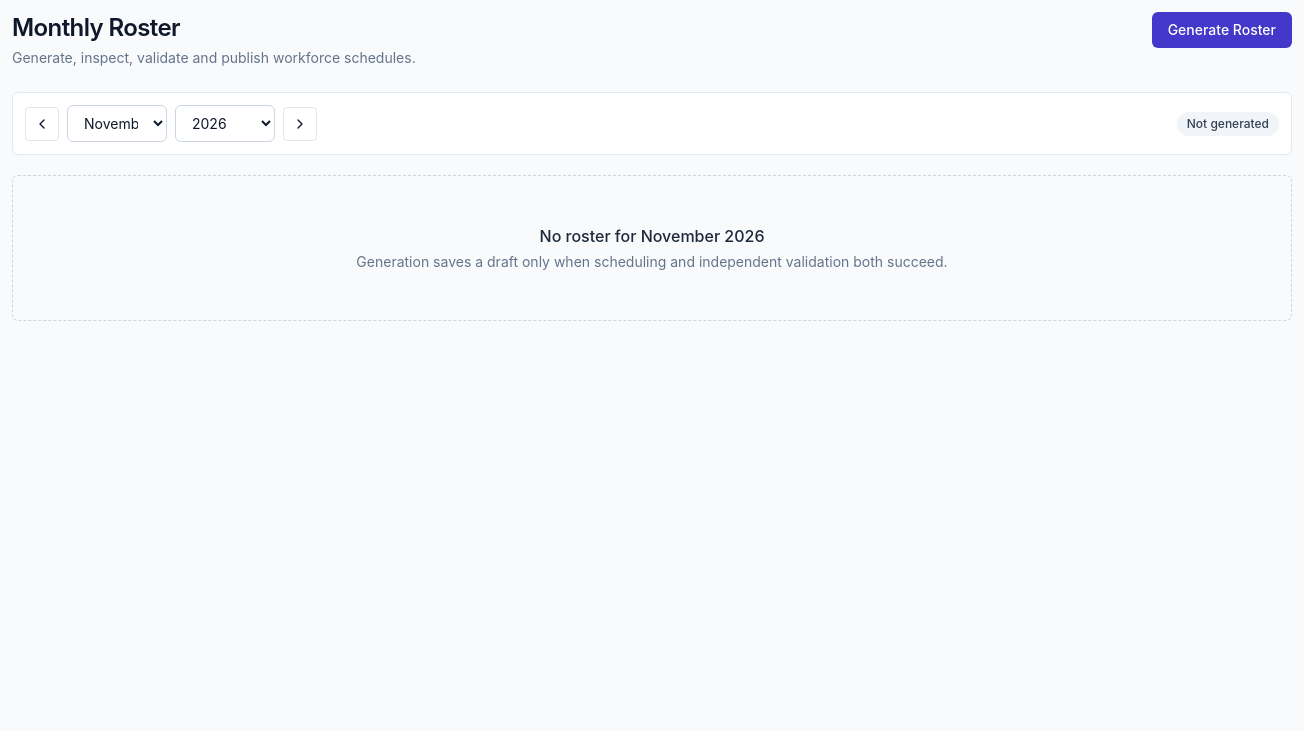
Task 9 monthly roster › filters coverage and opens the related brand view
Select "December" in the dropdown named "Roster month" at (117, 124), box [67,105,167,142]
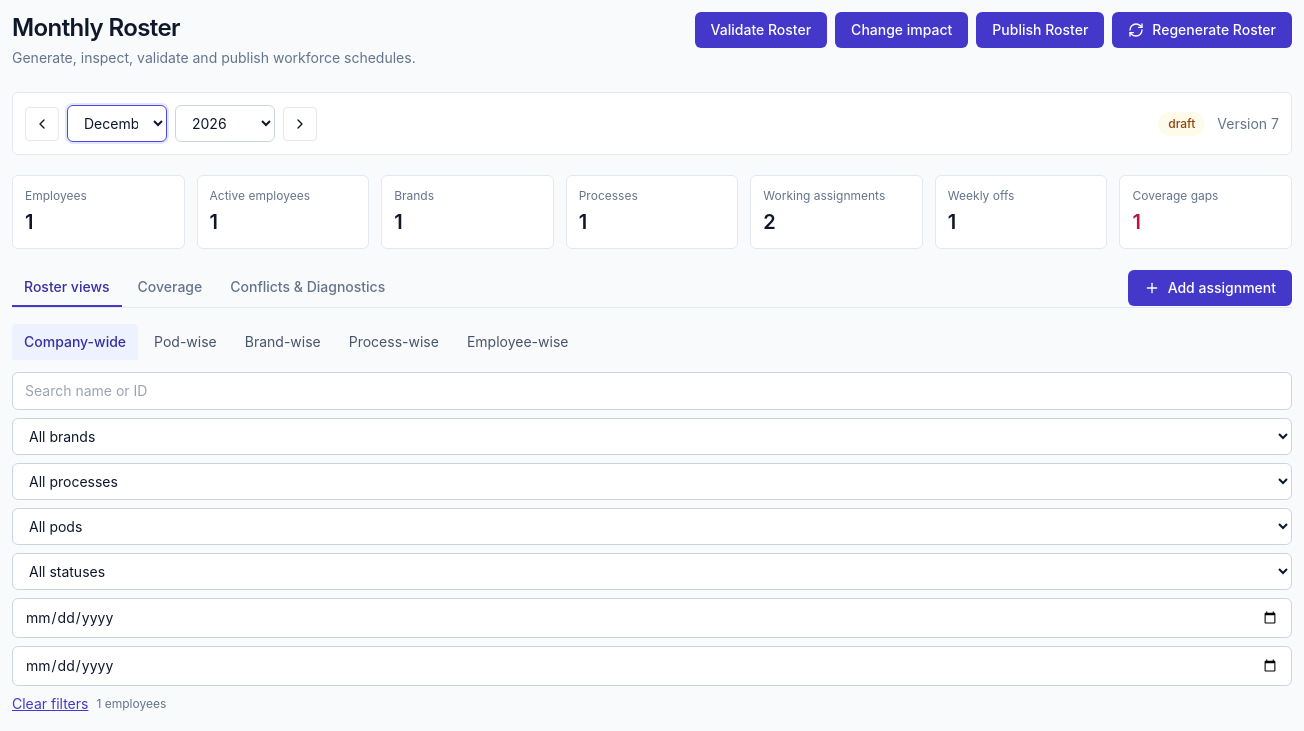
Click the tab "Coverage" at (170, 288), box [126,269,214,307]
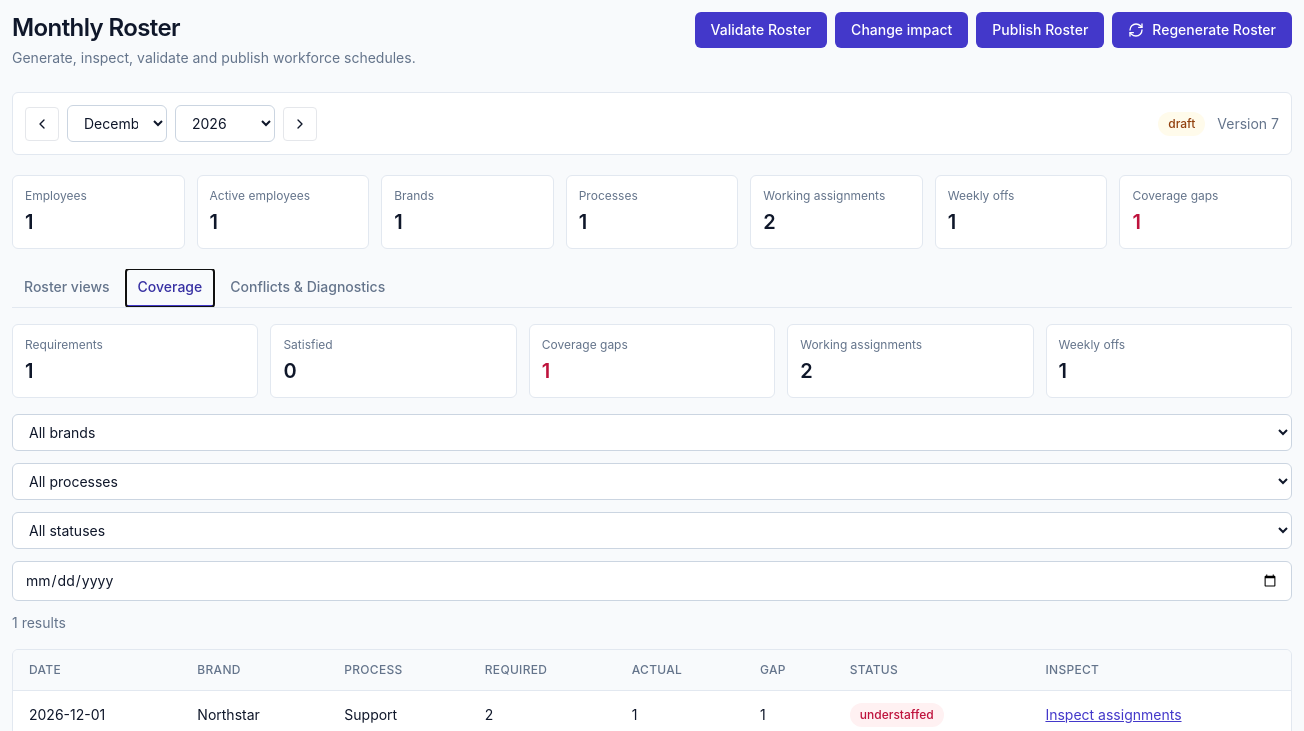
Expected: the text "understaffed" is shown, [850,703,944,727]
Expected: the text "Requirements" is shown, [25,337,103,352]
Select "Satisfied" in the dropdown named "Coverage status" at (652, 530), box [12,512,1292,549]
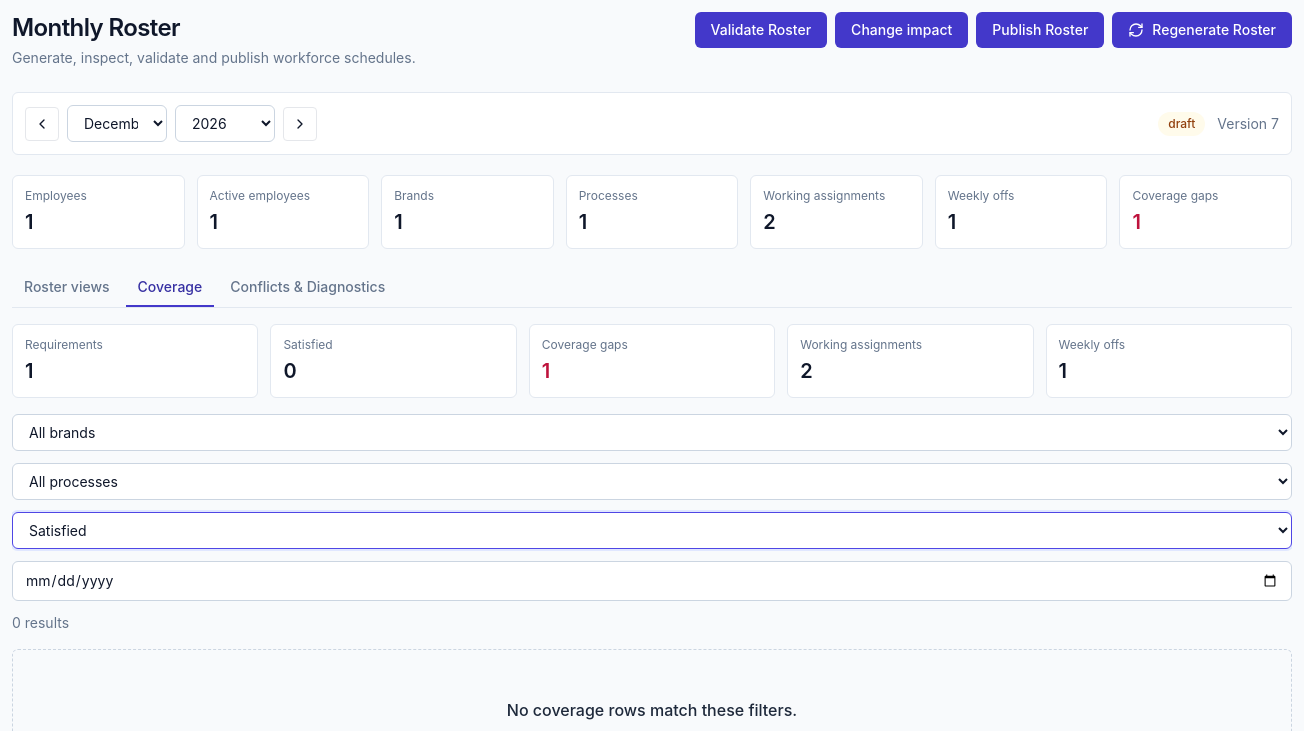
Expected: the text "No coverage rows match these filters." is shown, [507,700,797,720]
